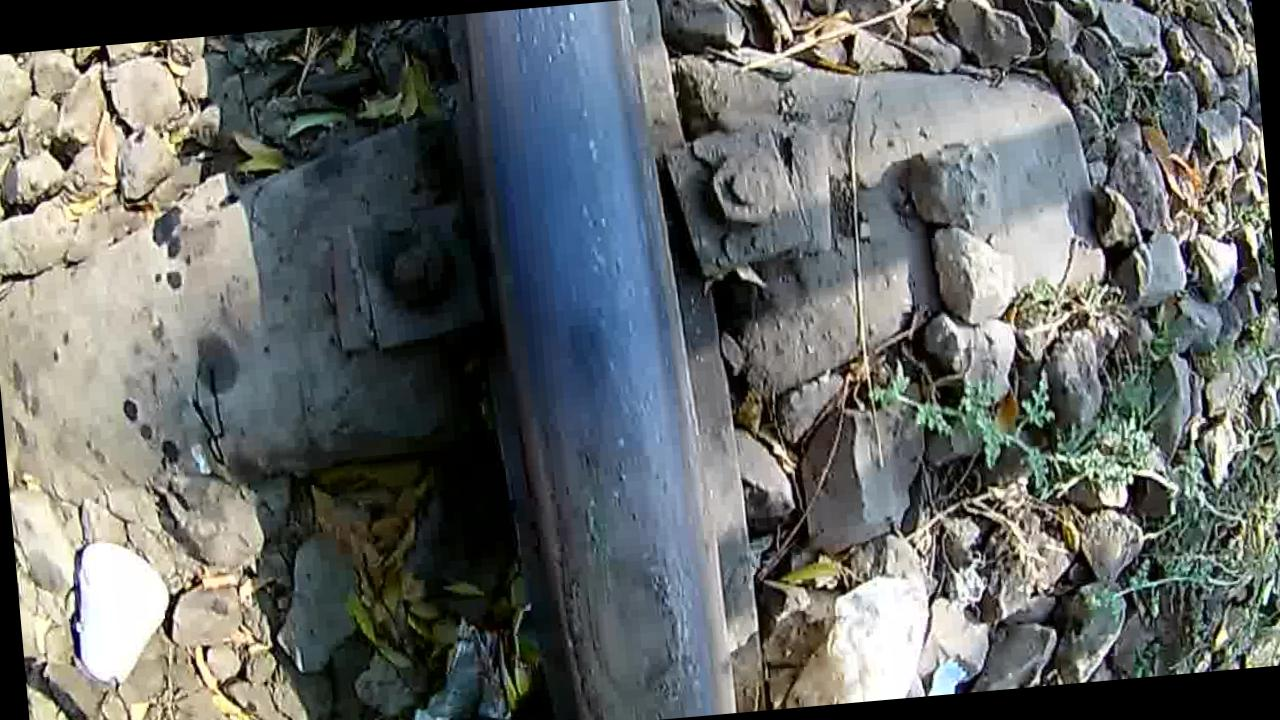bolt_missing: (514, 337, 709, 720)
